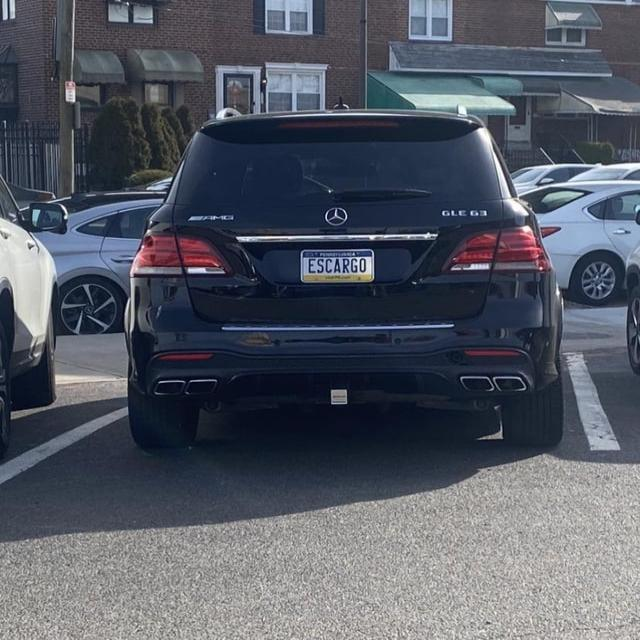LicensePlate: (299, 247, 374, 282)
